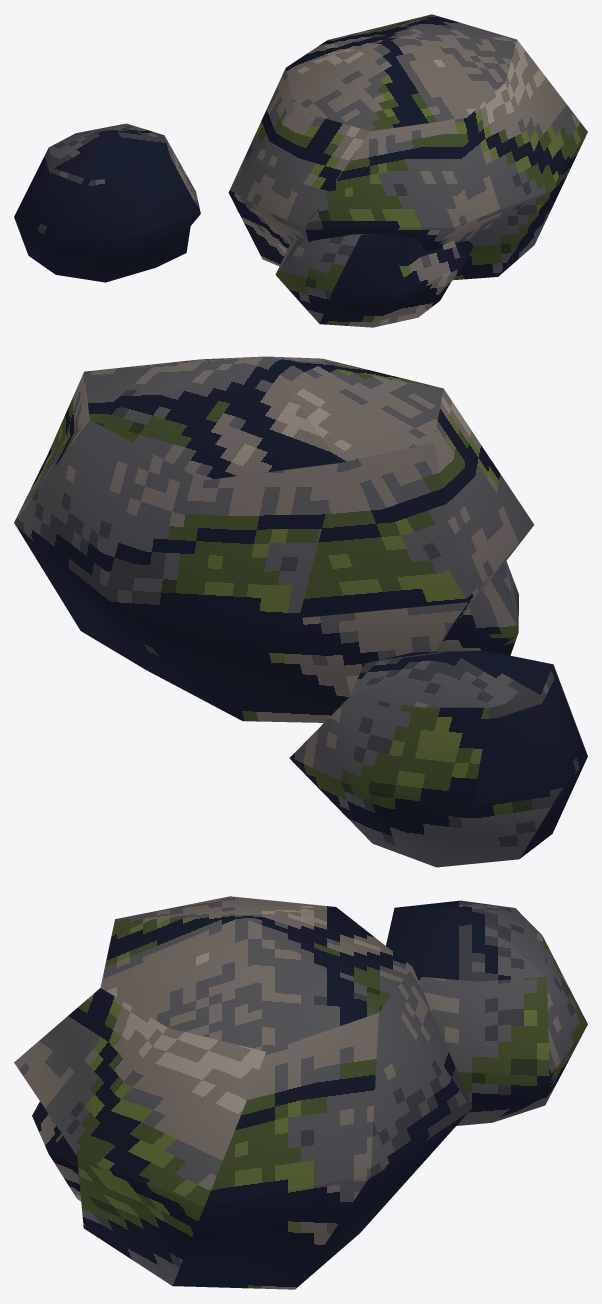
File: cave.boulder__big.glb
3 renders of one model, top to bottom at view 1: azimuth 30°, elevation 25°; view 2: azimuth 150°, elevation 25°; view 3: azimuth 270°, elevation 25°, orthographic. The views are drawn at different scales.
Visible parts, largest first — view 1: kit_boulders; view 2: kit_boulders; view 3: kit_boulders.
Boxes of the visible parts, x1,y1,x2,y2 form: kit_boulders: (14,14,587,327); kit_boulders: (14,356,587,867); kit_boulders: (14,896,587,1289).
Size of the model in its own units: 3.59 by 1.65 by 2.73.
Materials: 1 (1 with a texture image).
